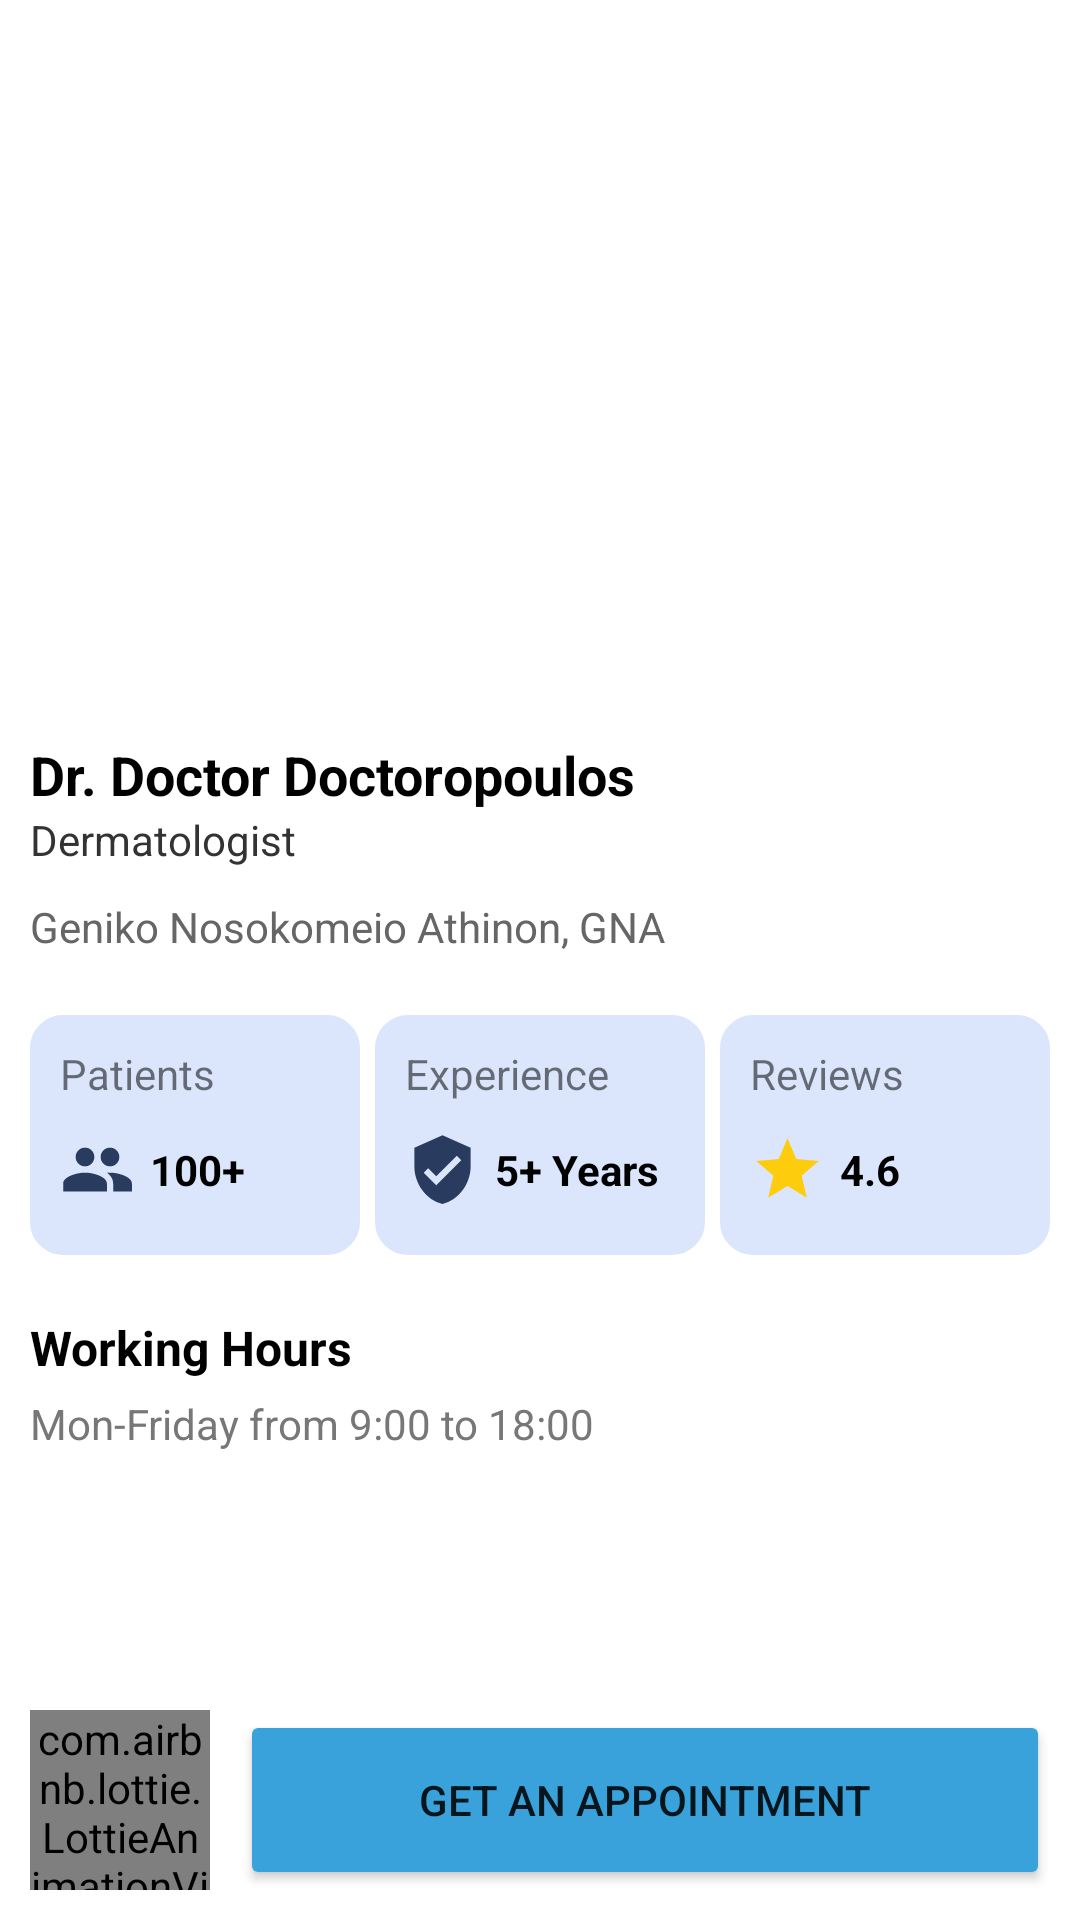

Named icons in this screenshot (1080 x 1920) and their centers, (x=x, y=y):
people: (x=97, y=1169)
star: (x=787, y=1168)
